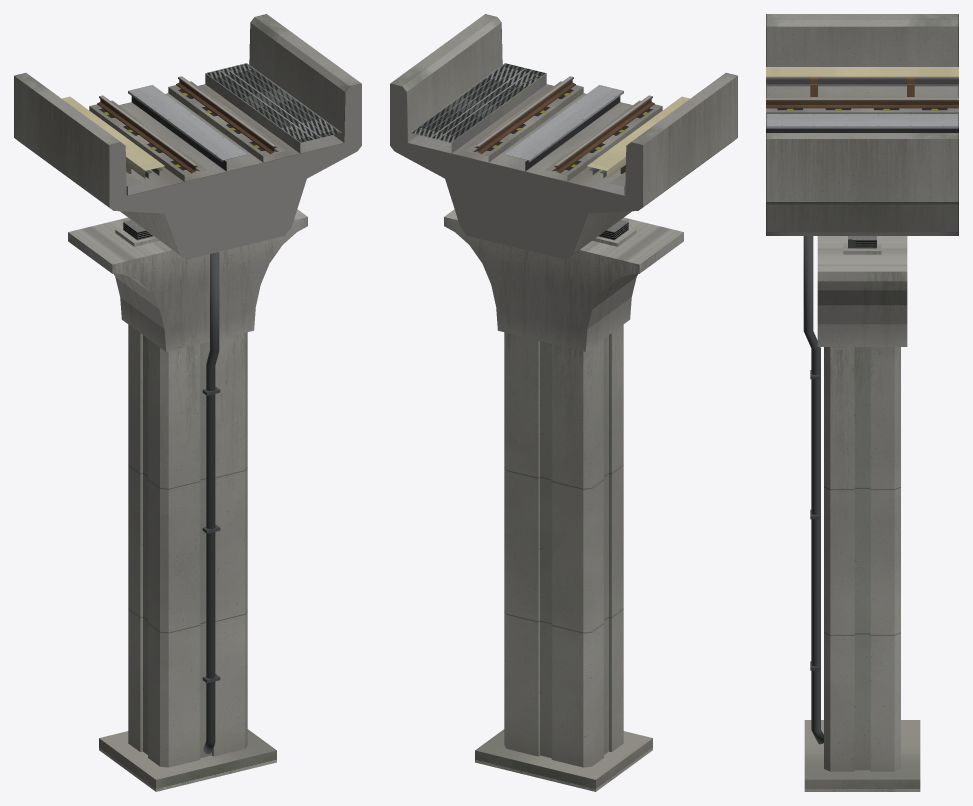
Rendered from LM_LRT_Viaduct.glb.
3 renders of one model, left to right at view 1: azimuth 30°, elevation 25°; view 2: azimuth 150°, elevation 25°; view 3: azimuth 270°, elevation 25°, orthographic.
Parts seen in each view (by area): view 1: pier | LRT pier concrete, girder | LRT girder concrete, girder | LRT track, pier | LRT track; view 2: pier | LRT pier concrete, girder | LRT girder concrete, girder | LRT track; view 3: pier | LRT pier concrete, girder | LRT girder concrete, girder | LRT track, pier | LRT track.
Boxes of the visible parts, box(x1,y1,x2,y2) form: pier | LRT pier concrete: box(68, 209, 307, 791); girder | LRT girder concrete: box(14, 14, 361, 259); girder | LRT track: box(62, 63, 341, 195); pier | LRT track: box(123, 220, 220, 753); pier | LRT pier concrete: box(444, 209, 683, 791); girder | LRT girder concrete: box(390, 14, 737, 259); girder | LRT track: box(410, 63, 689, 195); pier | LRT pier concrete: box(804, 236, 920, 791); girder | LRT girder concrete: box(766, 14, 958, 235); girder | LRT track: box(766, 67, 958, 132); pier | LRT track: box(803, 236, 876, 744).
Bounding box in the file's own units: 4.6 × 11.77 × 3.
Materials: 3 (3 with a texture image).
